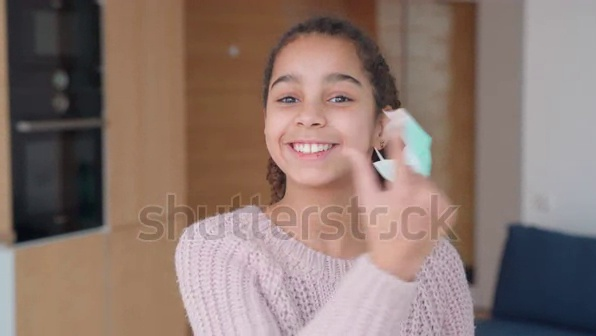No Mask: (254, 113, 378, 180)
